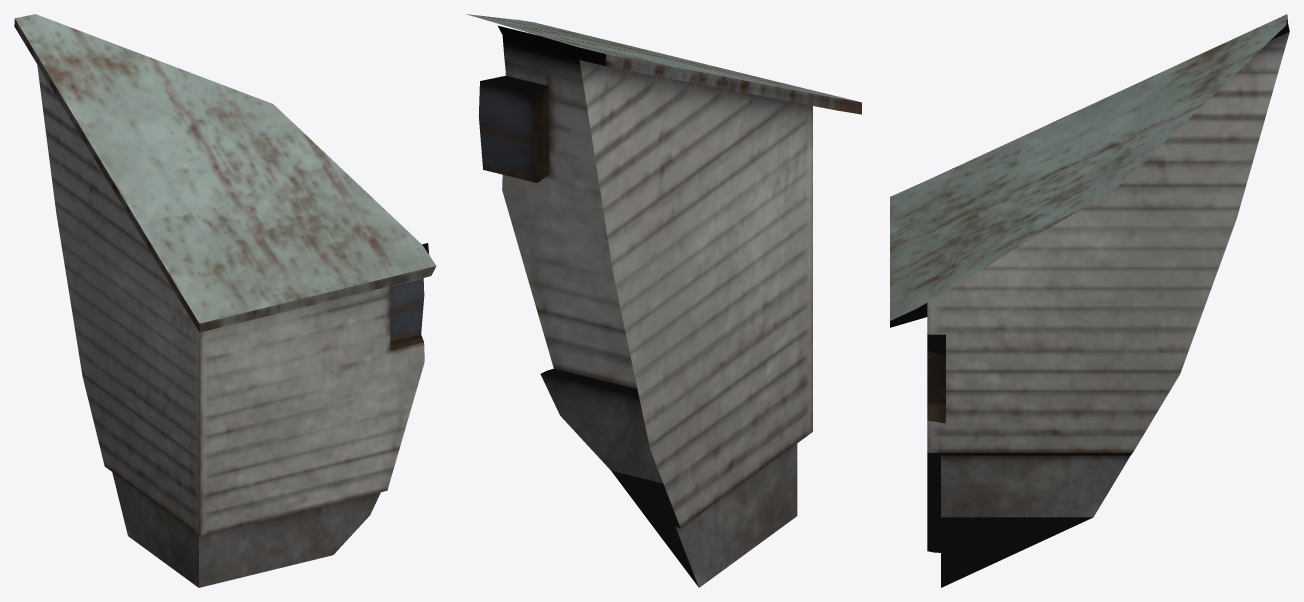
The model's file is House_02_02.fbx.
3 renders of one model, left to right at view 1: azimuth 30°, elevation 25°; view 2: azimuth 150°, elevation 25°; view 3: azimuth 270°, elevation 25°, orthographic. The views are drawn at different scales.
Parts seen in each view (by area): view 1: Object001.002; view 2: Object001.002; view 3: Object001.002.
Part boxes in pixels (box(x1,y1,x2,y2)): Object001.002: box(14, 14, 436, 587); Object001.002: box(466, 14, 861, 587); Object001.002: box(890, 14, 1289, 587).
Size of the model in its own units: 4.58 by 7.98 by 5.88.
Materials: 1 (1 with a texture image).
